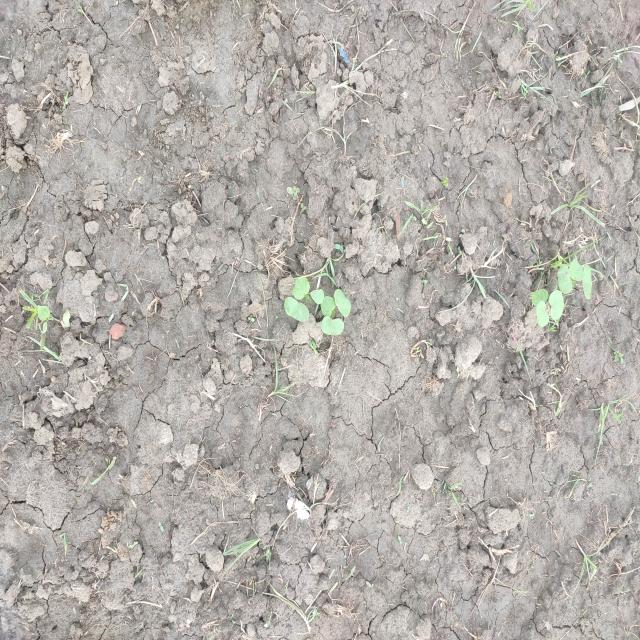seedling: (284, 297, 309, 322), (334, 289, 351, 318), (321, 316, 344, 335), (549, 290, 563, 320), (558, 265, 572, 294), (292, 278, 310, 300), (569, 255, 583, 281), (536, 301, 549, 327), (530, 289, 548, 307), (320, 296, 336, 316), (583, 265, 592, 299), (310, 289, 324, 304), (37, 305, 50, 321)
